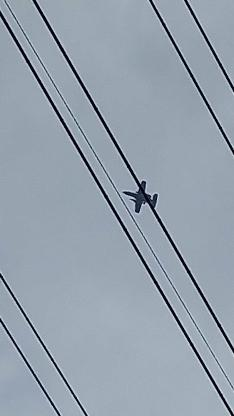A10: (122, 180, 158, 214)
